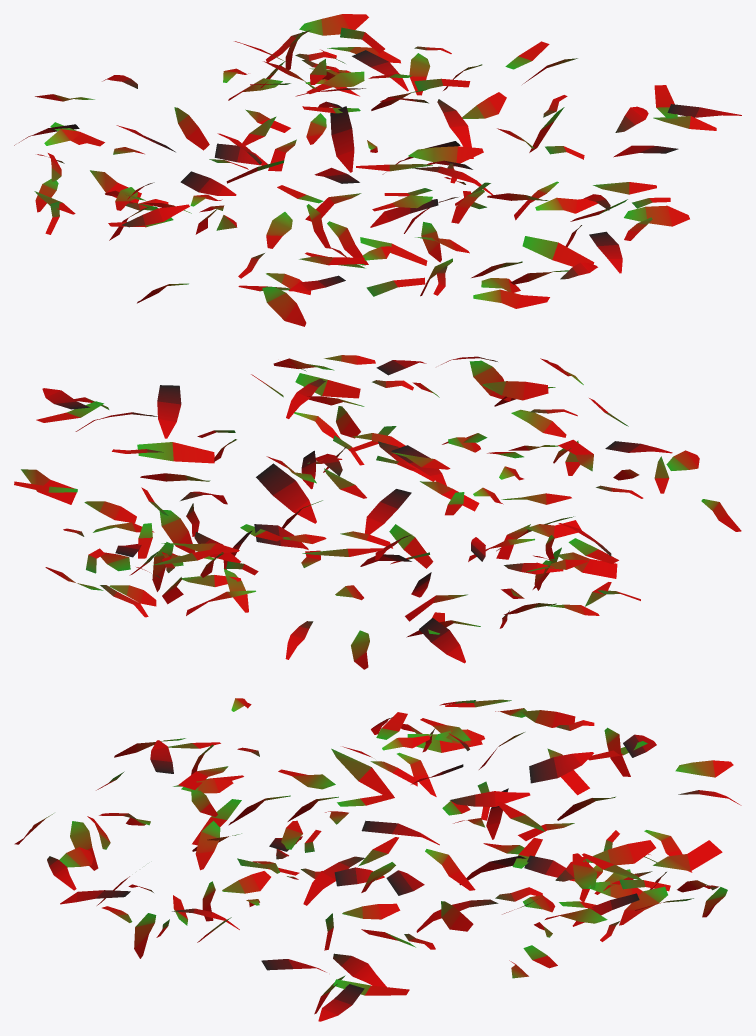
File: Var3_LOD2.fbx
3 views of the same model, one above another, from view 1: azimuth 30°, elevation 25°; view 2: azimuth 150°, elevation 25°; view 3: azimuth 270°, elevation 25° (orthographic). The views are drawn at different scales.
Visible parts, largest first — view 1: _5eac_Var3_LOD2; view 2: _5eac_Var3_LOD2; view 3: _5eac_Var3_LOD2.
Part boxes in pixels (x1,y1,x2,y2): _5eac_Var3_LOD2: (14,14,741,326); _5eac_Var3_LOD2: (14,355,741,669); _5eac_Var3_LOD2: (14,698,741,1021).
Bounding box in the file's own units: 115 × 7.98 × 109.
